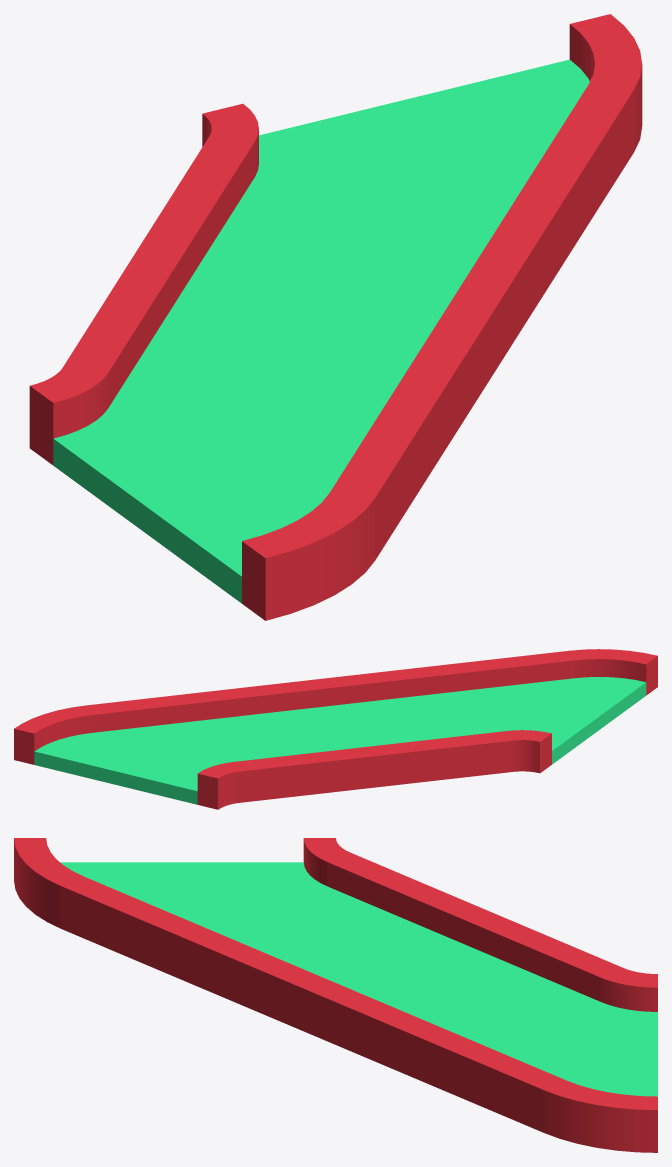
File: skewLargeCorner.fbx
3 views of the same model, one above another, from view 1: azimuth 30°, elevation 25°; view 2: azimuth 150°, elevation 25°; view 3: azimuth 270°, elevation 25° (orthographic). The views are drawn at different scales.
Visible parts, largest first — view 1: skewLargeCorner; view 2: skewLargeCorner; view 3: skewLargeCorner.
Boxes of the visible parts, x1,y1,x2,y2 form: skewLargeCorner: [29, 14, 642, 620]; skewLargeCorner: [14, 649, 657, 809]; skewLargeCorner: [14, 838, 657, 1152].
Bounding box in the file's own units: 20 × 1.47 × 20.
